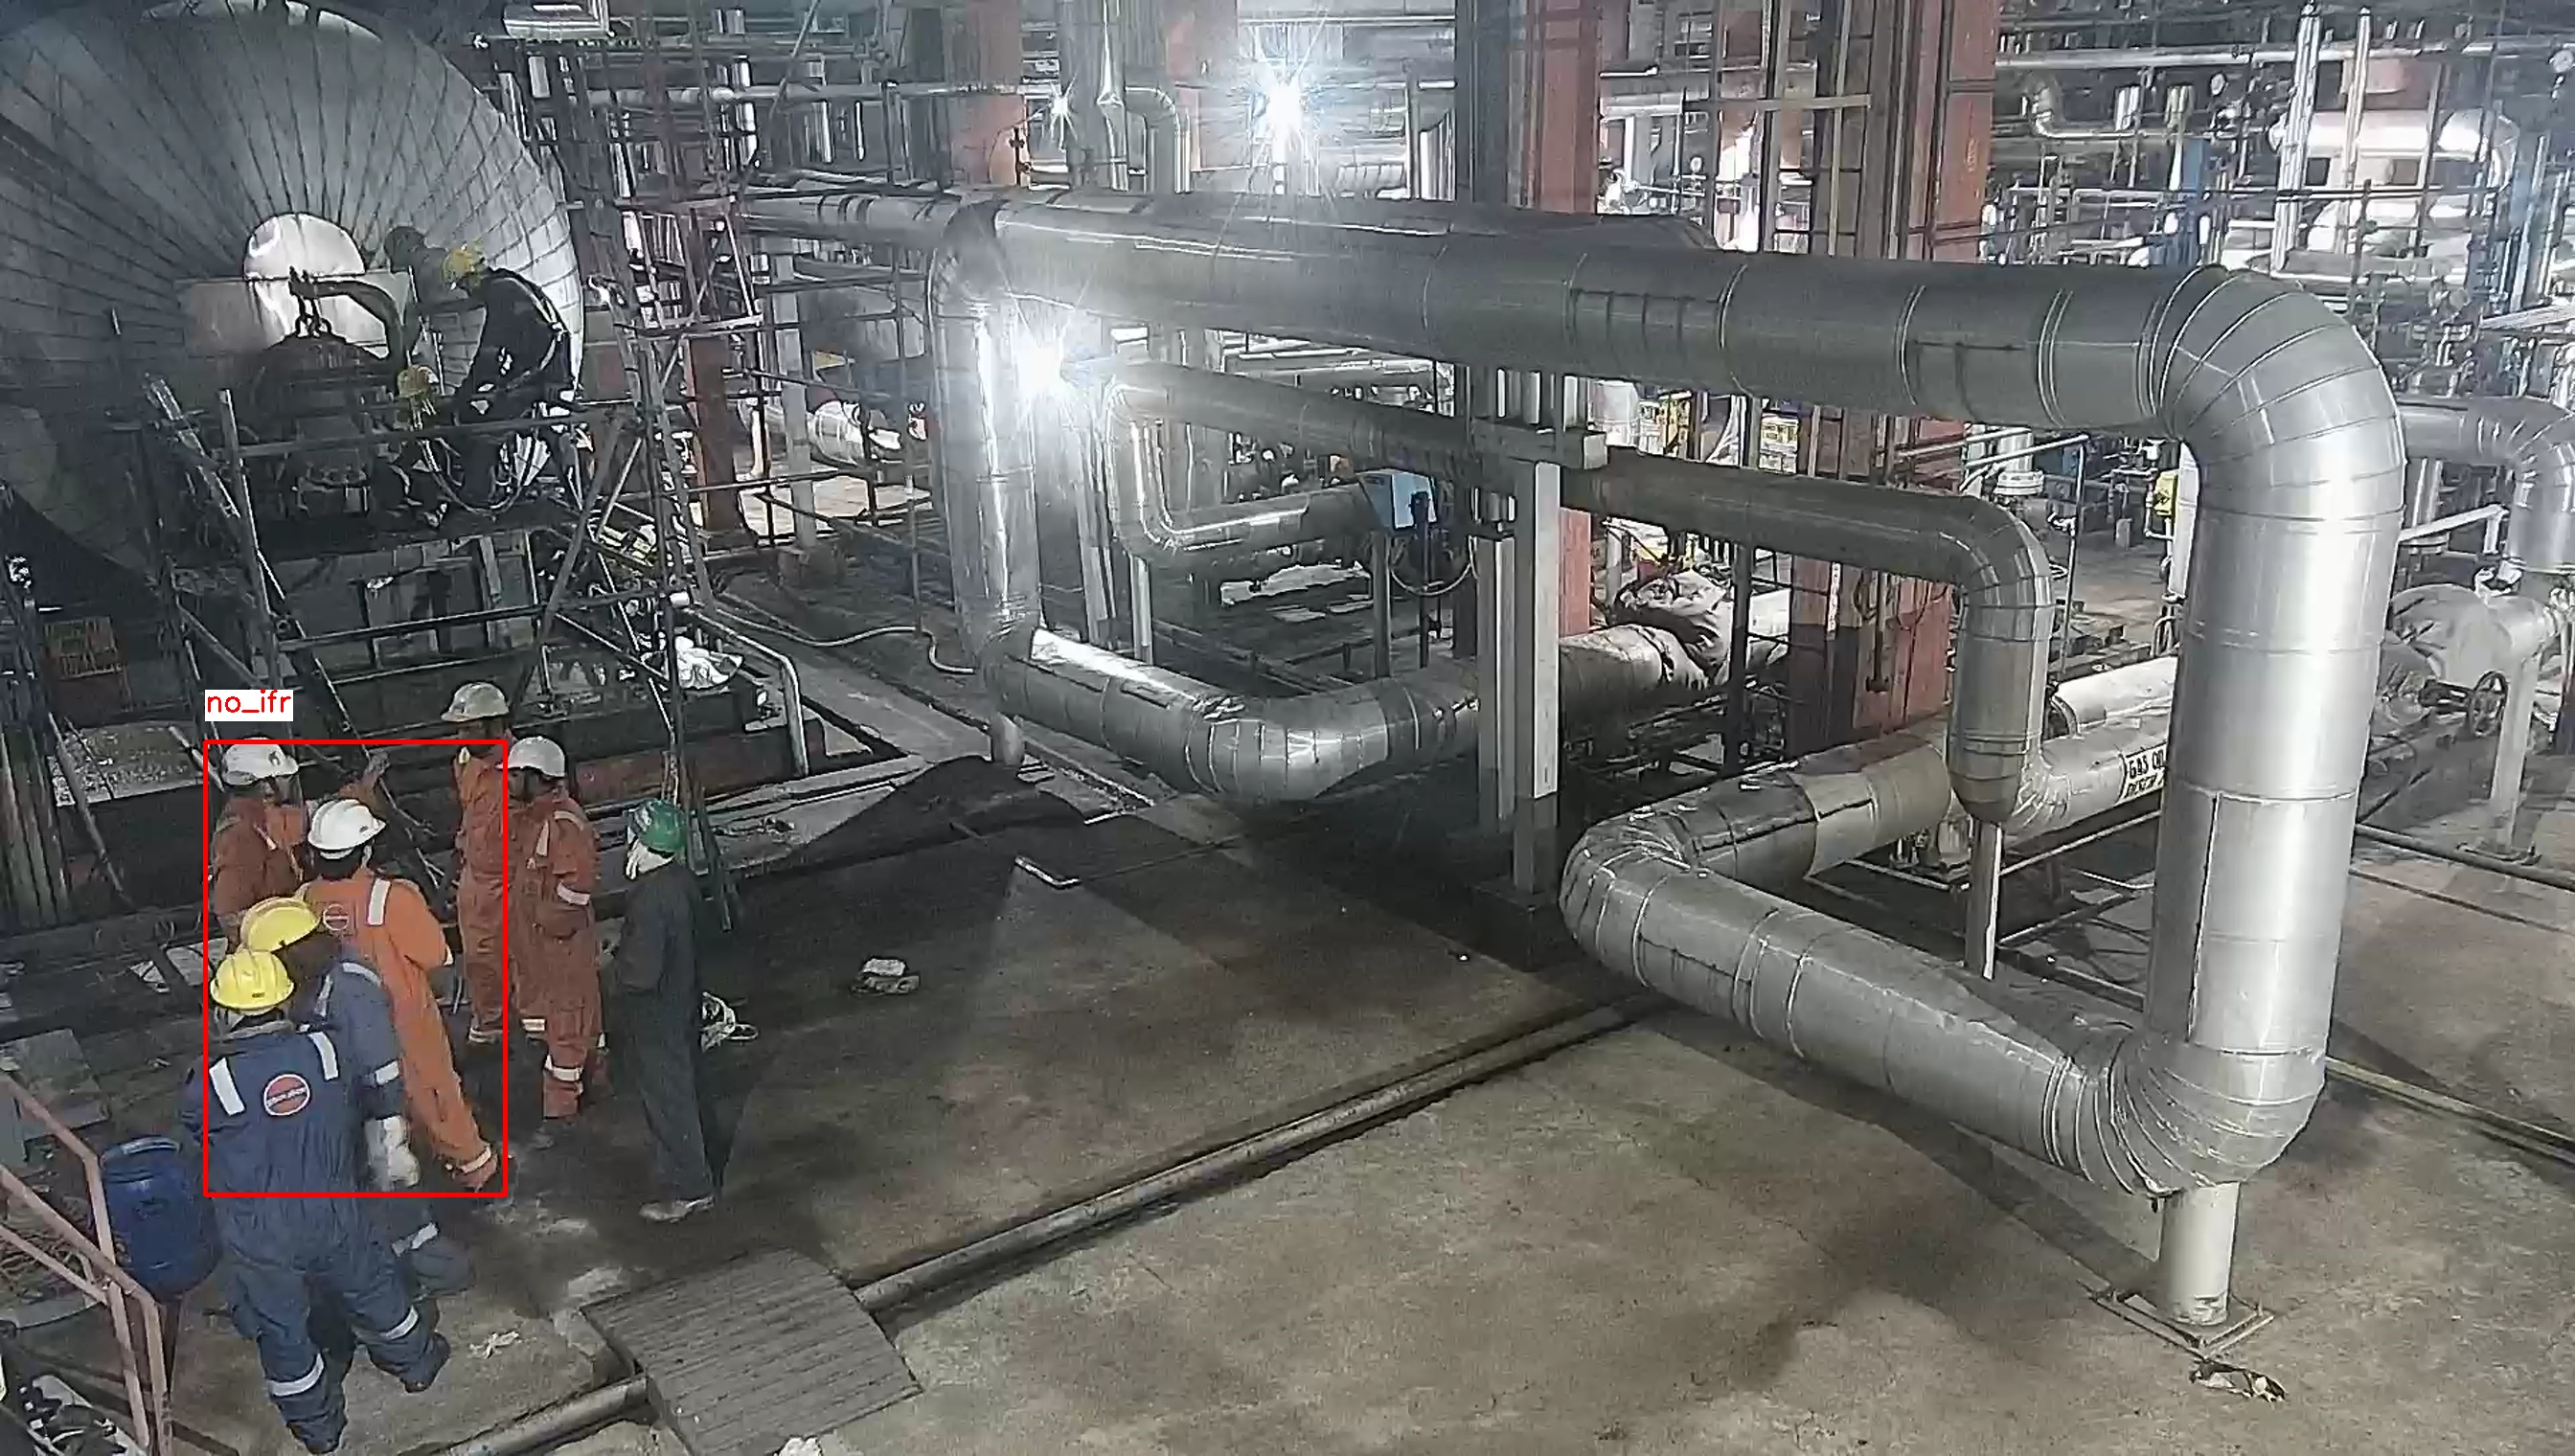Helmets: (302, 796, 396, 856), (209, 952, 294, 1014)
IFR_Suit: (191, 1033, 416, 1403), (506, 800, 605, 1118), (440, 676, 516, 727)
